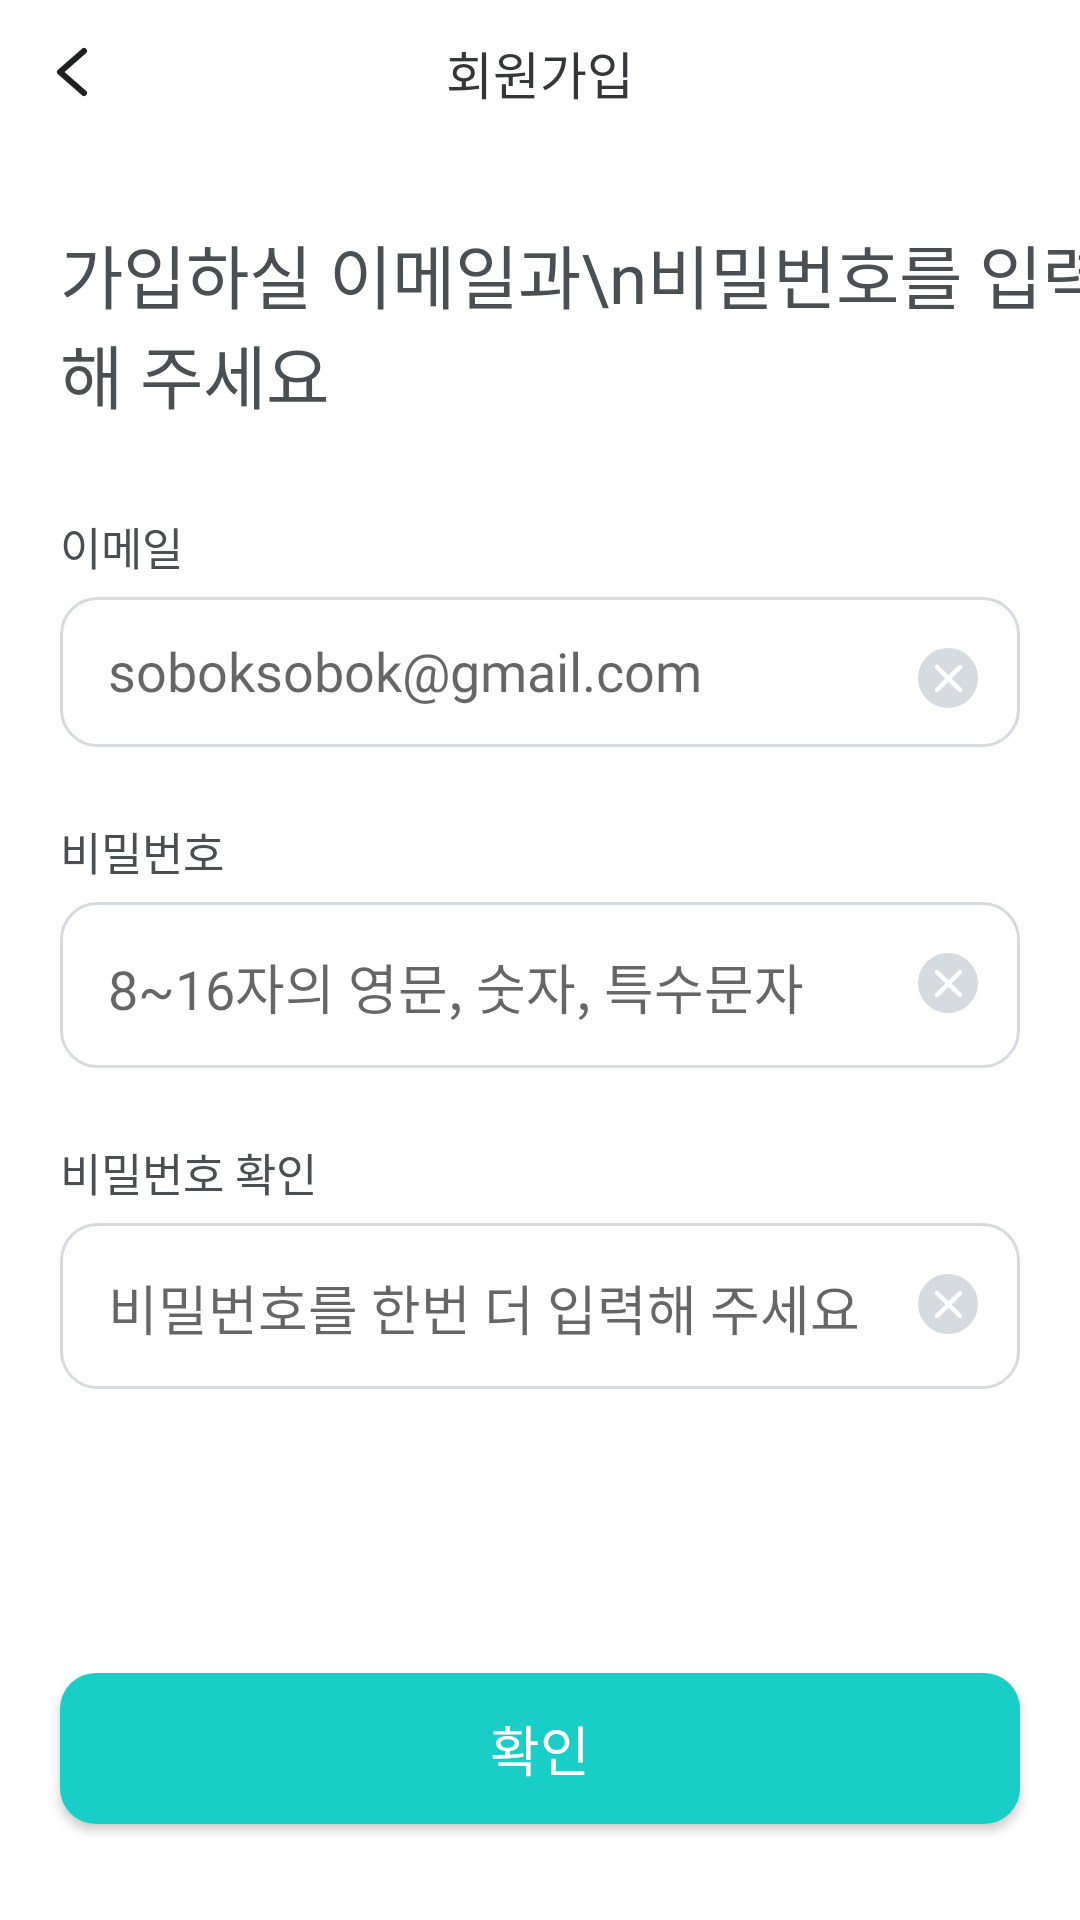

Icons on this 1080*1920 Android screen, each with its box as bbox=[x1, y1, x2, y2]:
back: bbox=[56, 48, 87, 96]
text close: bbox=[918, 648, 978, 708], bbox=[918, 953, 978, 1013], bbox=[918, 1274, 978, 1334]
